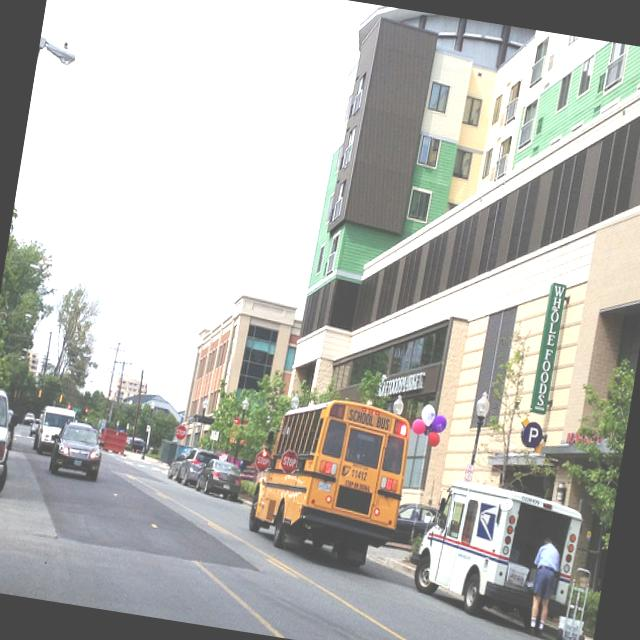Vehicle: (236, 388, 419, 578), (409, 474, 586, 622), (50, 421, 106, 482), (32, 404, 76, 460), (193, 456, 244, 502), (392, 497, 439, 545), (0, 387, 20, 497), (175, 446, 221, 490), (167, 452, 187, 482), (176, 443, 194, 462), (126, 435, 146, 448), (29, 417, 40, 437), (23, 412, 36, 427)
